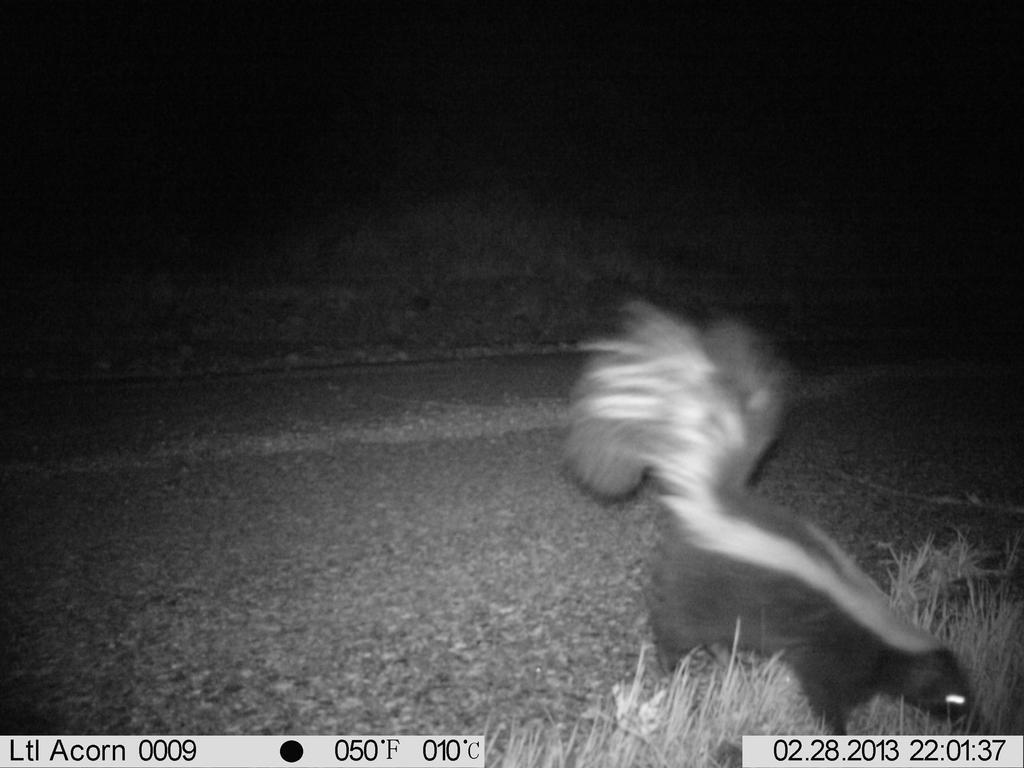skunk: (545, 287, 985, 724)
